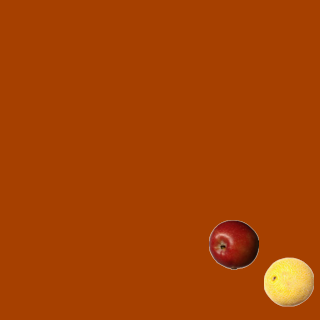Apple Braeburn: (208, 219, 258, 269)
Cantaloupe 1: (263, 256, 313, 306)
